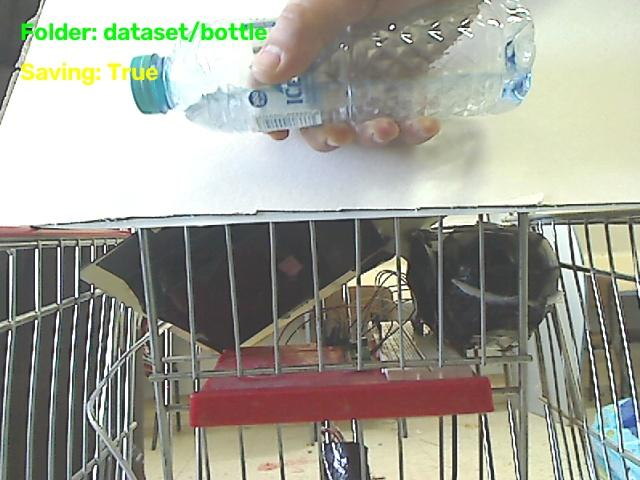Bottle: (130, 0, 534, 131)
